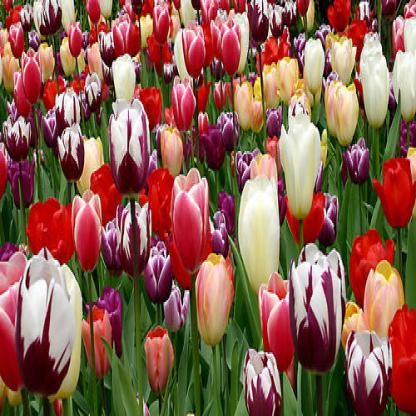TULIP: (2, 8, 410, 399)
